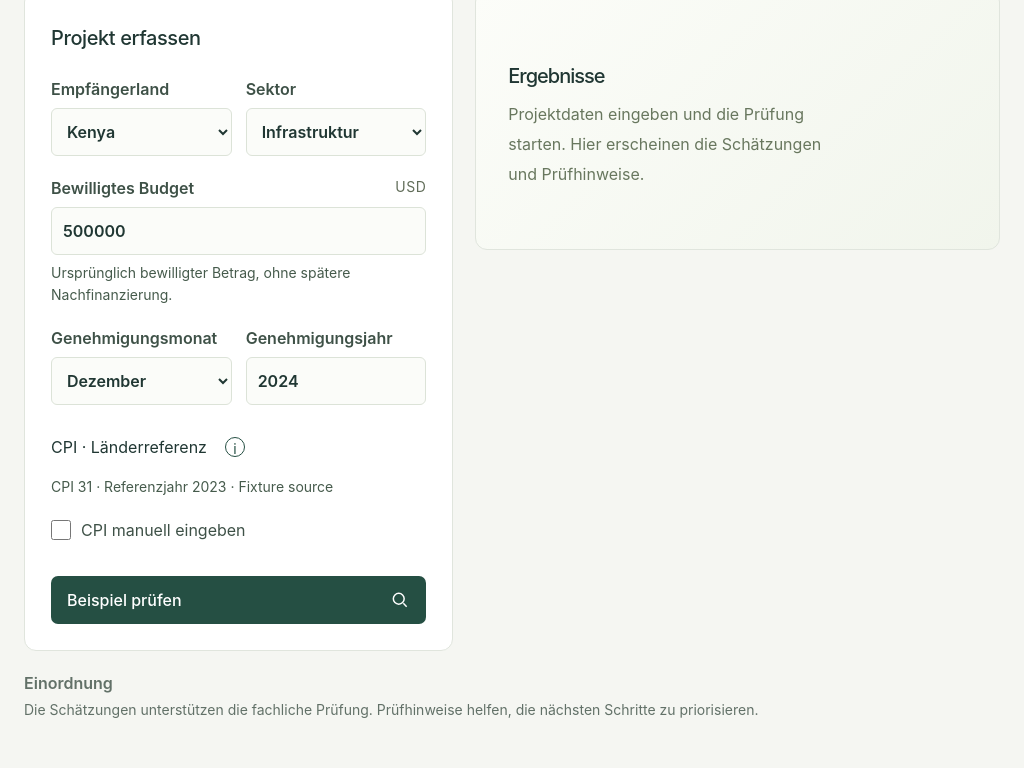
Test: project screening › shows a sourced automatic CPI without sending the preview as a manual score
The image size is (1024, 768).
(page scrolled)
Expected: the text "CPI 31 · Referenzjahr 2023 · Fixture source" is shown, [51, 478, 333, 495]
Click the button "Beispiel prüfen" at coordinates (124, 600), box [51, 576, 426, 624]
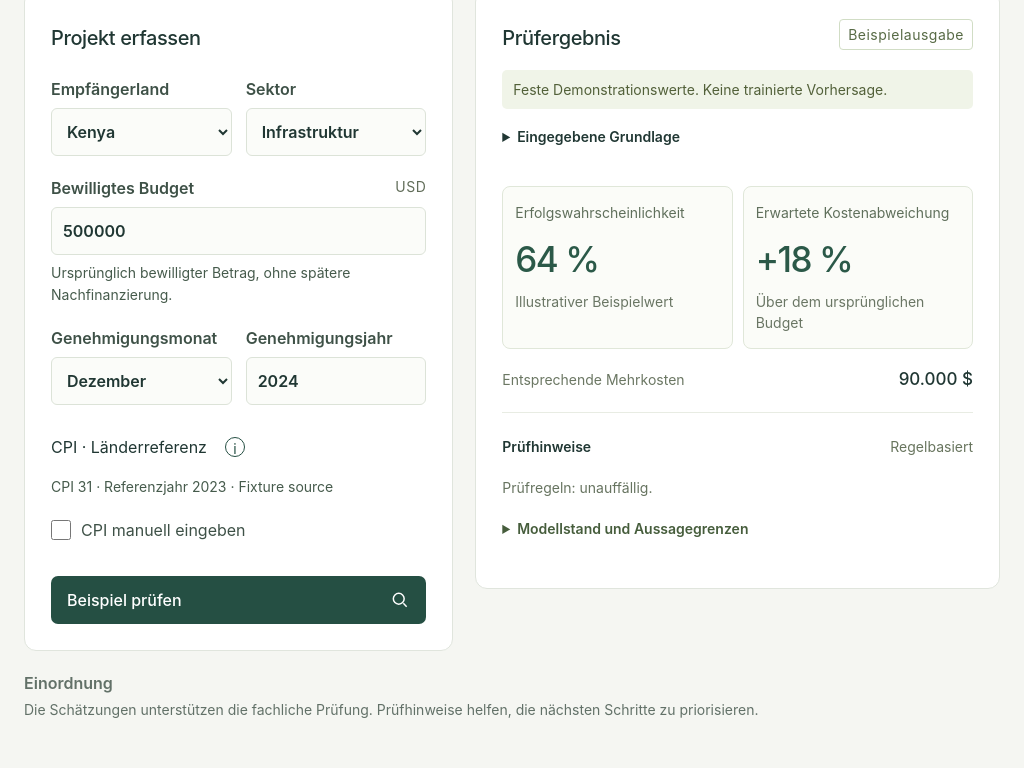
Result: the heading "Prüfergebnis" is shown at [502, 23, 621, 53]
